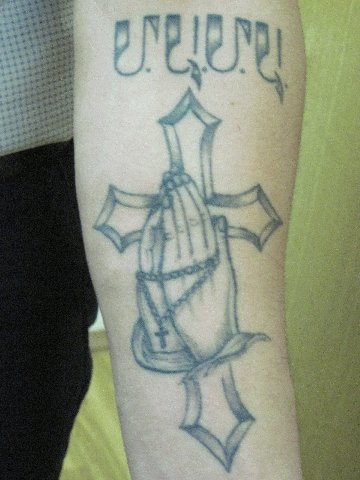tatu9_krest: (70, 84, 299, 478)
